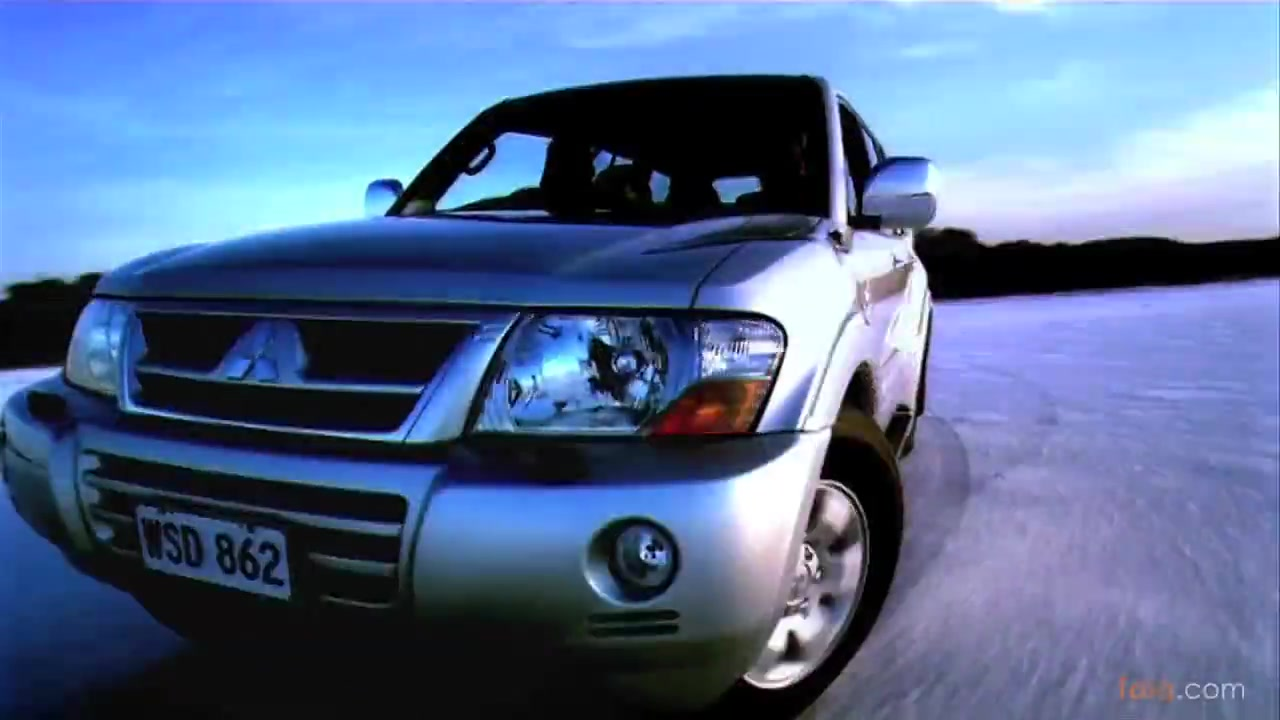car: (1, 73, 938, 717)
